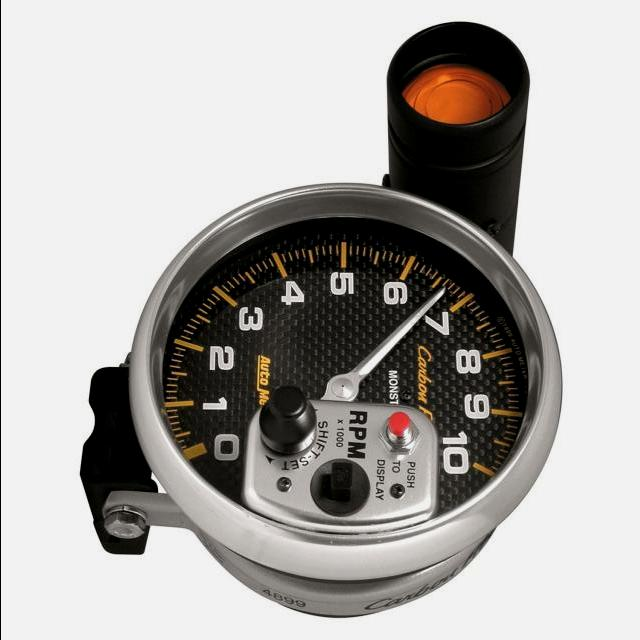Needle_Tip: (410, 279, 452, 328)
Needle_base: (308, 349, 380, 424)
max_value: (426, 419, 481, 492)
min_value: (192, 416, 243, 471)
